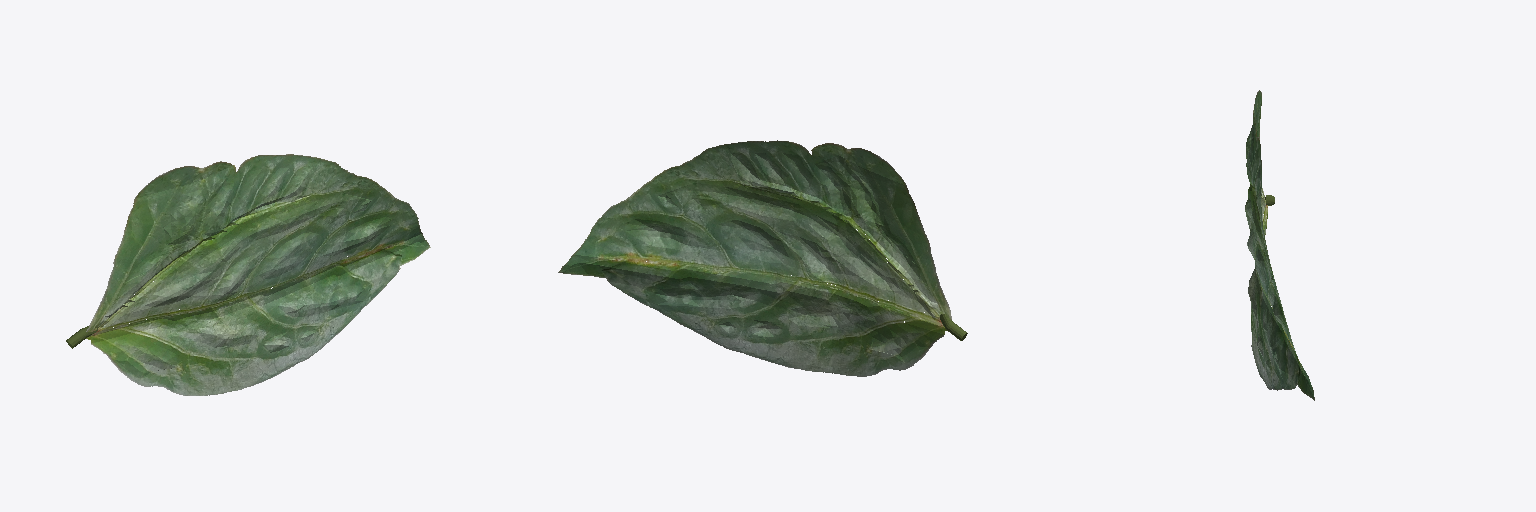
3 views of the same model, side by side, from view 1: azimuth 30°, elevation 25°; view 2: azimuth 150°, elevation 25°; view 3: azimuth 270°, elevation 25° (orthographic).
Parts seen in each view (by area): view 1: leaf, veins; view 2: leaf, veins; view 3: leaf.
Boxes of the visible parts, x1=… form: leaf: x1=86, y1=154, x2=430, y2=395; veins: x1=86, y1=230, x2=376, y2=339; leaf: x1=558, y1=140, x2=951, y2=376; veins: x1=635, y1=208, x2=946, y2=330; leaf: x1=1245, y1=90, x2=1314, y2=400.
Bounding box in the file's own units: 1.01 × 0.6074 × 0.1592.
2 materials, 1 textured.